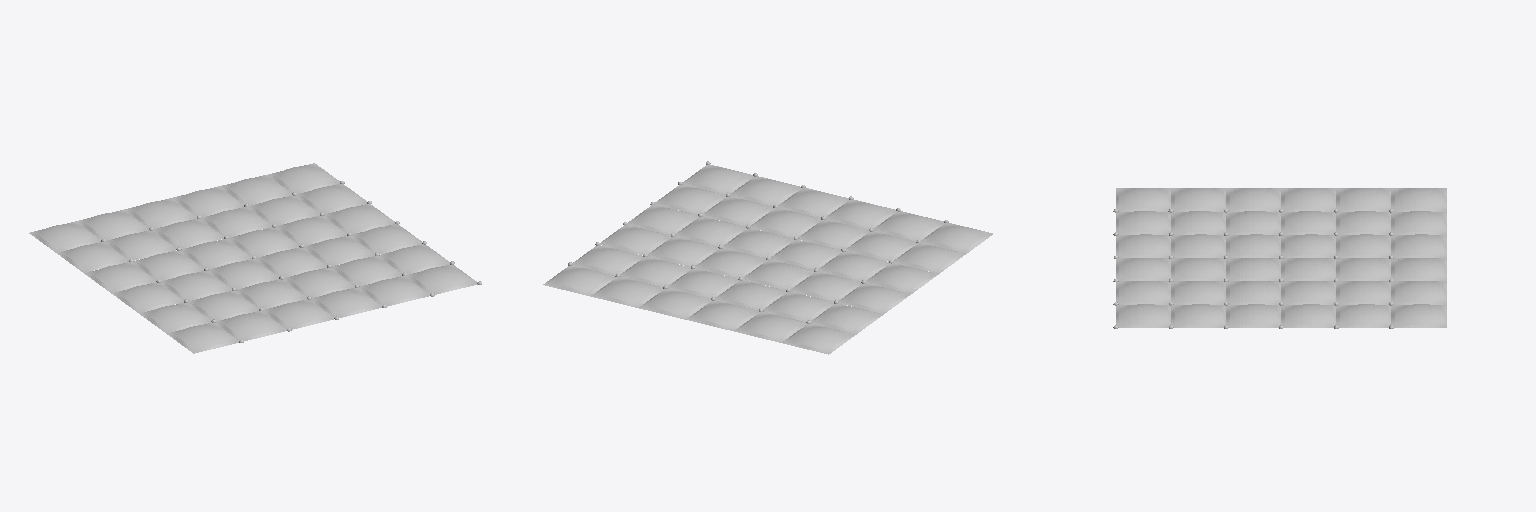
File: PaddedFloor_LP.obj
The picture shows the model from 3 angles: view 1: azimuth 30°, elevation 25°; view 2: azimuth 150°, elevation 25°; view 3: azimuth 270°, elevation 25°; orthographic projection.
Parts seen in each view (by area): view 1: pSphere37; view 2: pSphere37; view 3: pSphere37.
Part boxes in pixels (x1,y1,x2,y2): pSphere37: (29, 163, 481, 353); pSphere37: (543, 161, 992, 354); pSphere37: (1113, 188, 1446, 328).
Size of the model in its own units: 6.05 by 0.1042 by 6.05.